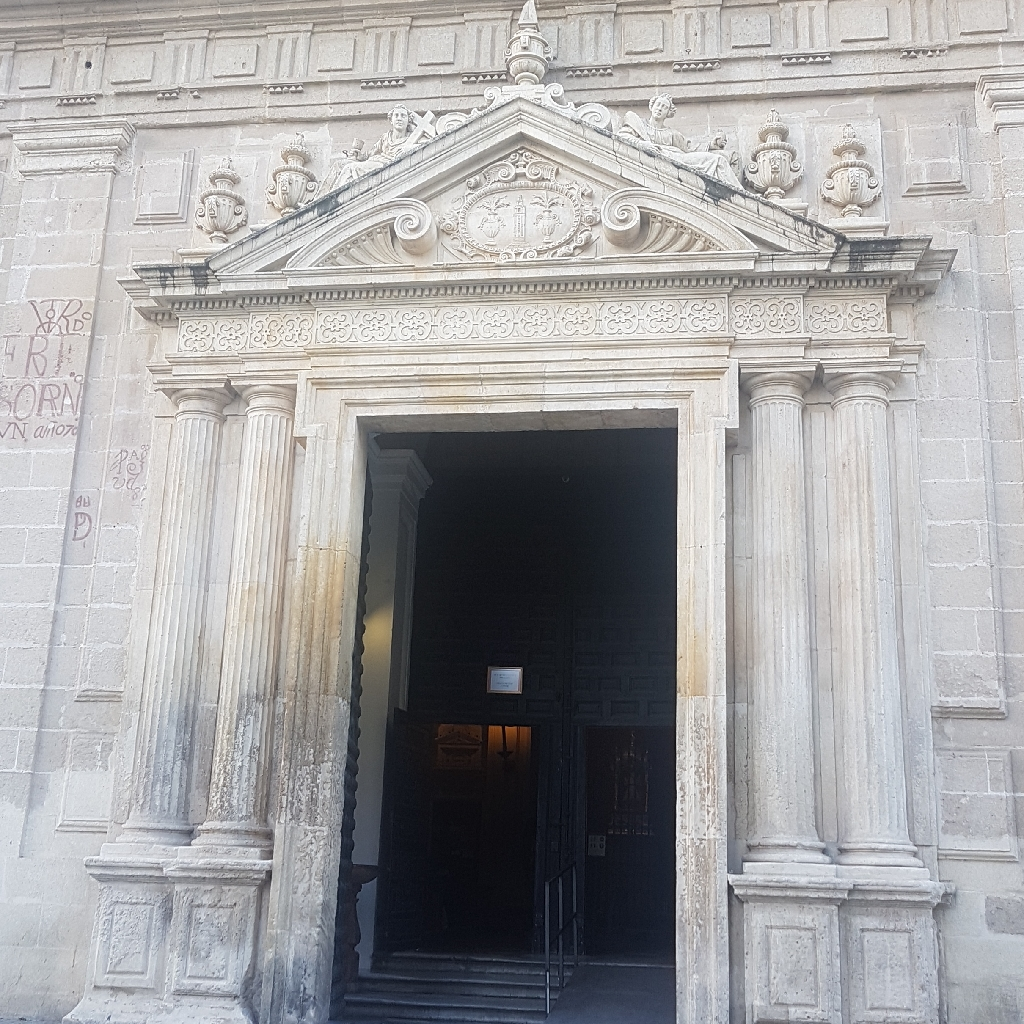fronton: (202, 96, 850, 293)
fronton-partido: (279, 185, 764, 283)
vano-adintelado: (262, 339, 738, 1024)
